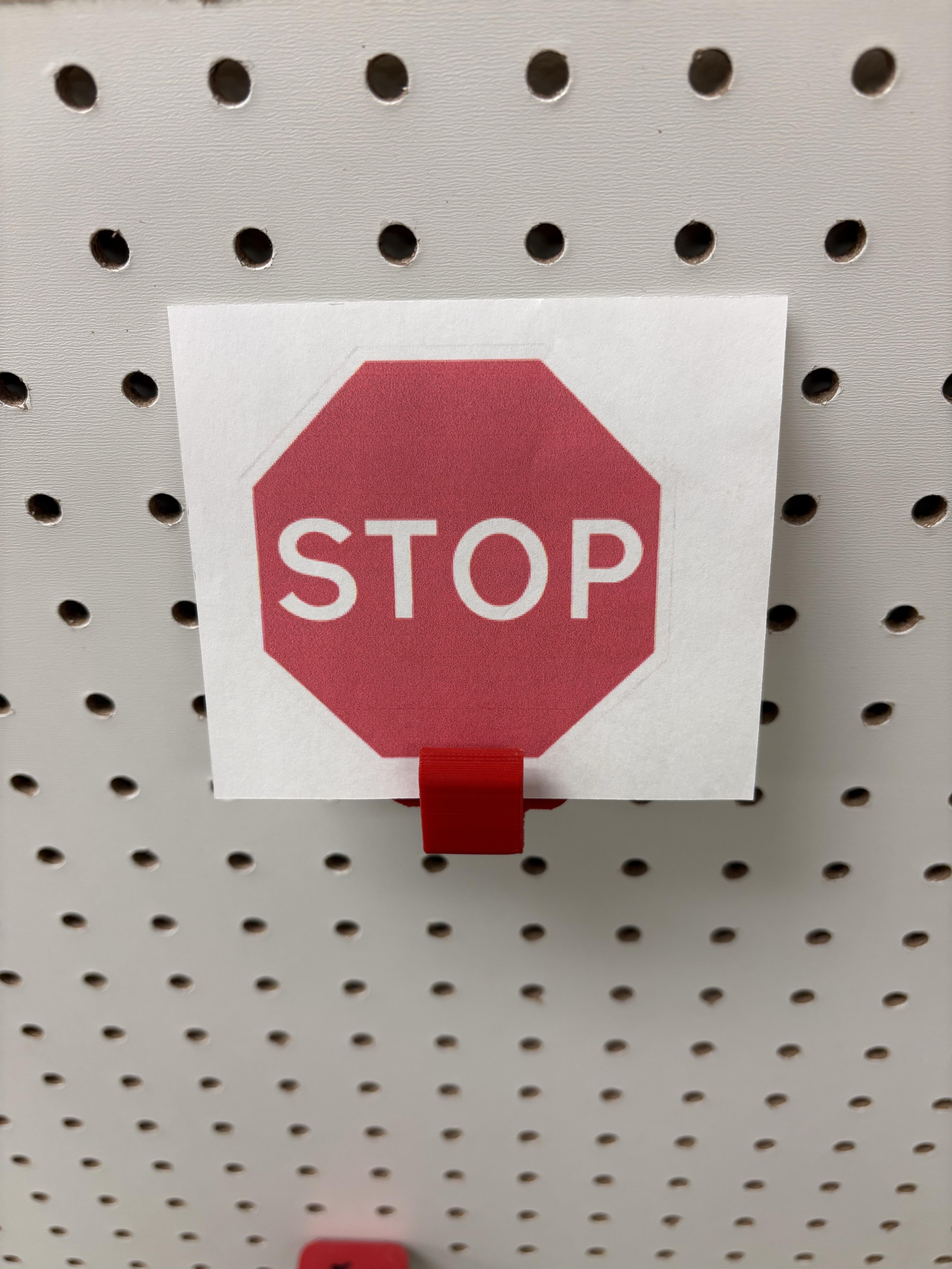Stop: (125, 400, 594, 1070)
